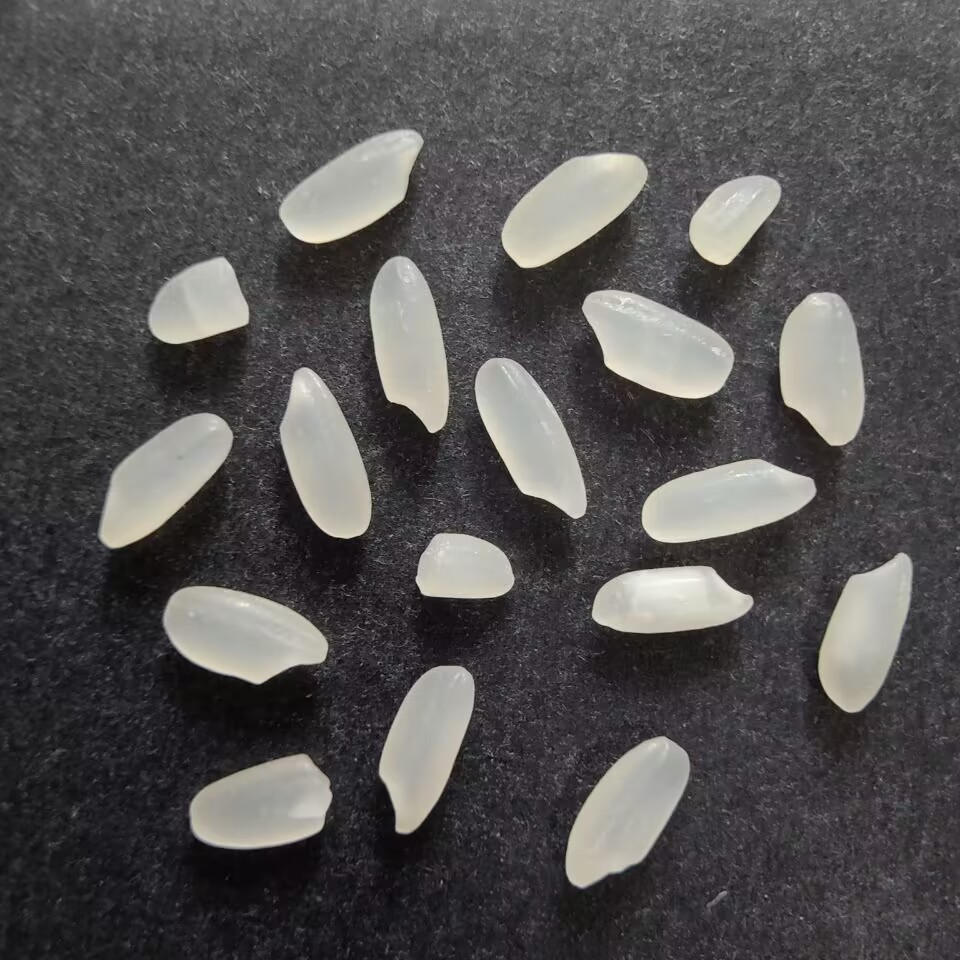broken: (186, 749, 336, 860), (143, 252, 253, 352), (684, 170, 786, 270), (410, 526, 516, 608)
rice: (561, 732, 694, 896), (471, 352, 591, 526), (94, 409, 235, 554), (497, 151, 651, 274), (158, 583, 333, 691), (277, 125, 426, 250), (379, 659, 480, 842), (579, 288, 739, 401), (278, 364, 376, 546), (638, 453, 820, 549), (816, 545, 915, 715), (368, 253, 451, 439), (775, 290, 866, 450), (589, 562, 758, 640)
